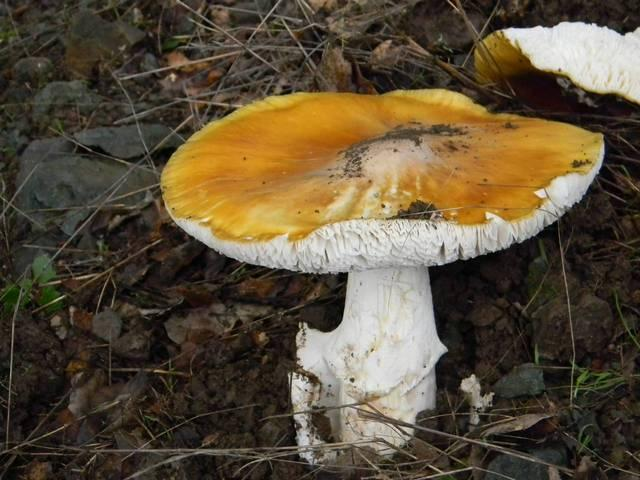Edible Mushroom: (158, 86, 605, 475)
